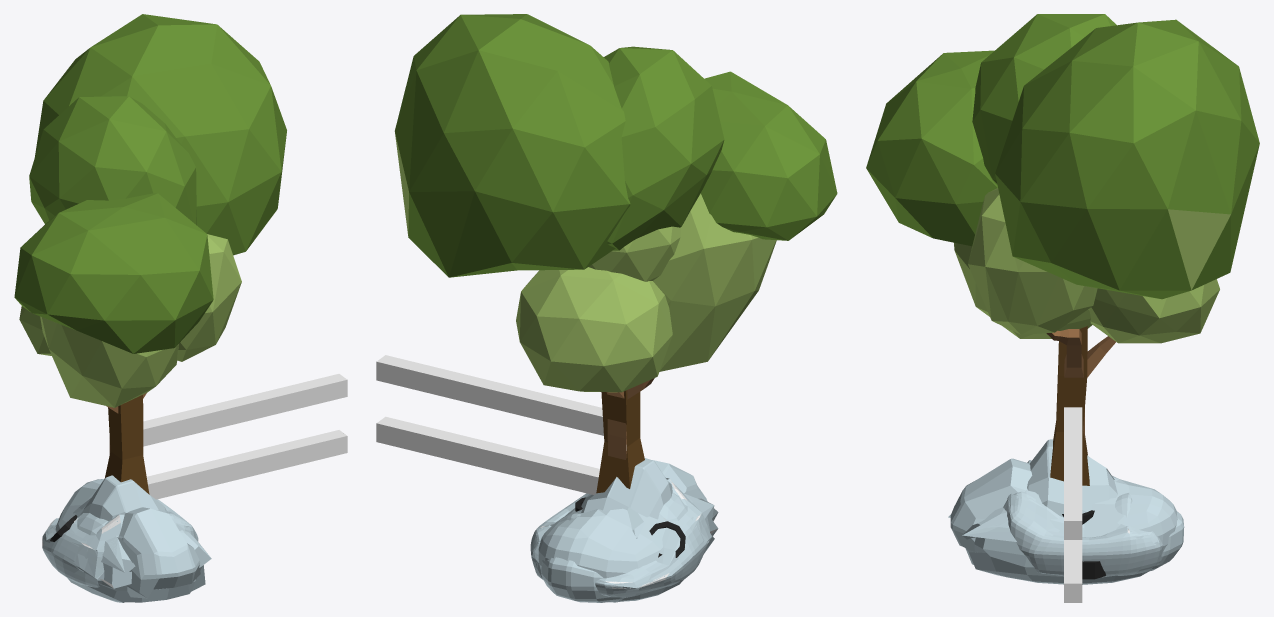
File: Race-Decorations.glb
3 views of the same model, side by side, from view 1: azimuth 30°, elevation 25°; view 2: azimuth 150°, elevation 25°; view 3: azimuth 270°, elevation 25° (orthographic). The views are drawn at different scales.
Parts seen in each view (by area): view 1: Tree.001, Tree.002, Fence.001, Stone.005, Stone.006, Stone.002, Stone.004; view 2: Tree.001, Tree.002, Fence.001, Stone.006, Stone.002, Stone.004, Stone.005; view 3: Tree.001, Tree.002, Stone.006, Stone.002, Stone.005, Fence.001, Stone.004.
Part boxes in pixels (box(x1,y1,x2,y2)): Tree.001: box(14, 14, 286, 494); Tree.002: box(19, 234, 241, 453); Fence.001: box(143, 374, 347, 499); Stone.005: box(117, 507, 200, 598); Stone.006: box(55, 479, 211, 602); Stone.002: box(42, 499, 198, 587); Stone.004: box(73, 475, 166, 520); Tree.001: box(394, 14, 837, 493); Tree.002: box(516, 193, 776, 459); Fence.001: box(376, 355, 626, 494); Stone.006: box(538, 492, 718, 602); Stone.002: box(530, 477, 712, 597); Stone.004: box(581, 458, 672, 538); Stone.005: box(541, 460, 718, 602); Tree.001: box(866, 14, 1259, 485); Tree.002: box(954, 188, 1219, 440); Stone.006: box(962, 475, 1177, 584); Stone.002: box(1003, 460, 1163, 577); Stone.005: box(948, 458, 1184, 571); Fence.001: box(1064, 407, 1082, 602); Stone.004: box(1027, 439, 1117, 584).
Size of the model in its own units: 6.83 by 9.32 by 5.73.
Materials: 1 (1 with a texture image).
